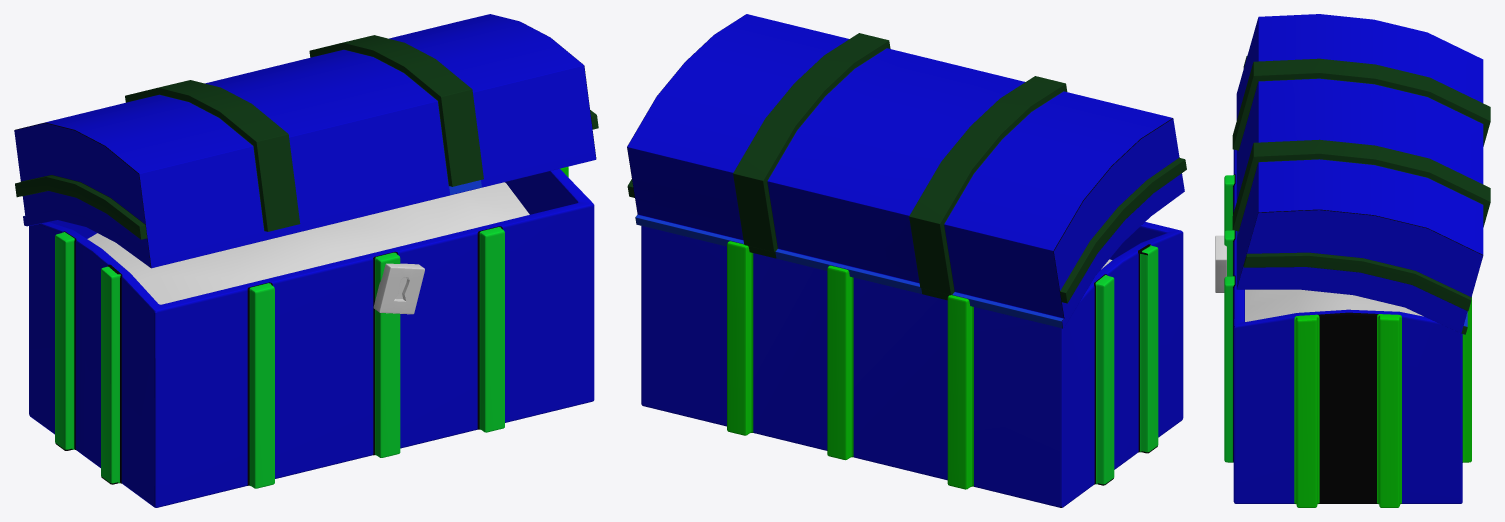
Rendered from Chest.fbx.
3 renders of one model, left to right at view 1: azimuth 30°, elevation 25°; view 2: azimuth 150°, elevation 25°; view 3: azimuth 270°, elevation 25°, orthographic. The views are drawn at different scales.
Visible parts, largest first — view 1: Base, Lid, goldCoins, lock; view 2: Lid, Base; view 3: Lid, Base, goldCoins, lock.
Part boxes in pixels (bbox=[...]): Base: bbox=[29, 166, 594, 507]; Lid: bbox=[14, 14, 598, 268]; goldCoins: bbox=[87, 182, 529, 304]; lock: bbox=[373, 263, 424, 314]; Lid: bbox=[627, 14, 1186, 328]; Base: bbox=[641, 222, 1183, 507]; Lid: bbox=[1232, 14, 1490, 334]; Base: bbox=[1224, 149, 1471, 507]; goldCoins: bbox=[1245, 289, 1423, 321]; lock: bbox=[1215, 235, 1226, 292].
Size of the model in its own units: 2.5 by 1.75 by 1.44.
